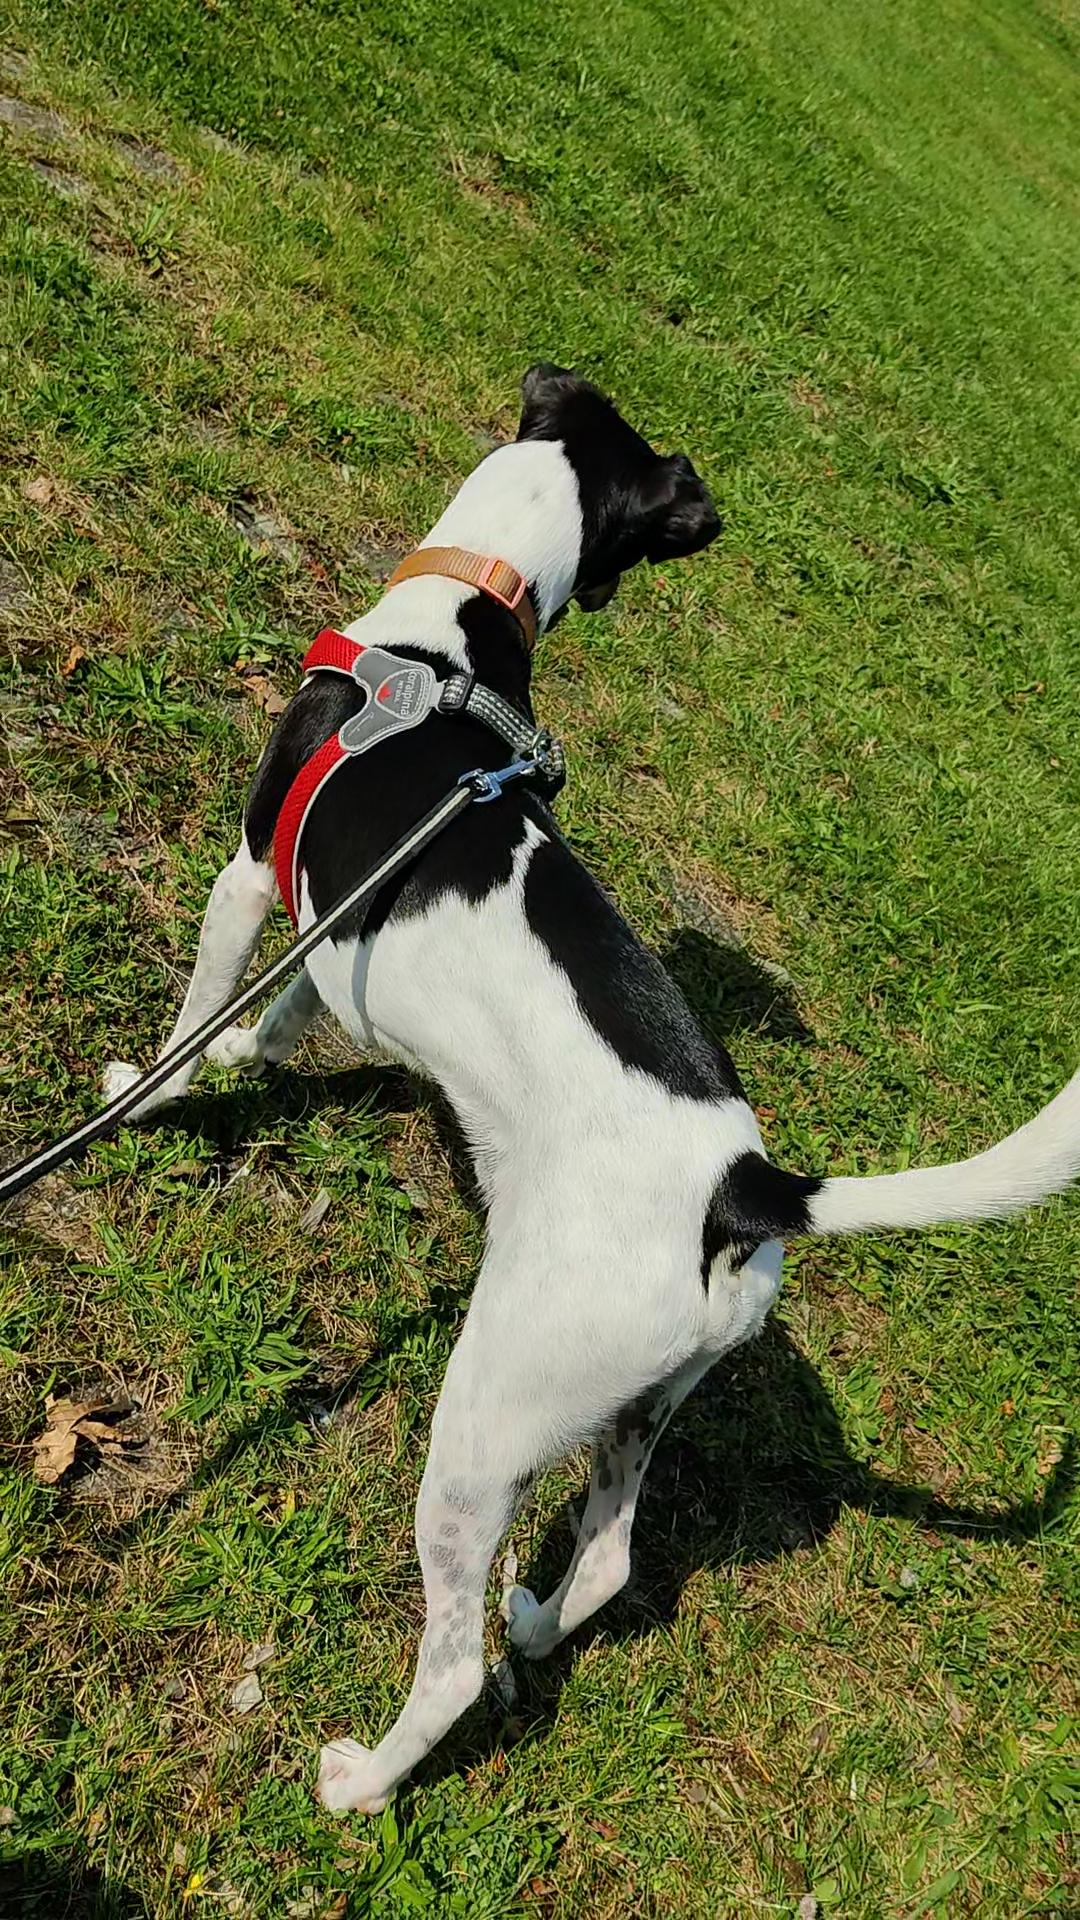Dog: (86, 357, 1079, 1822)
